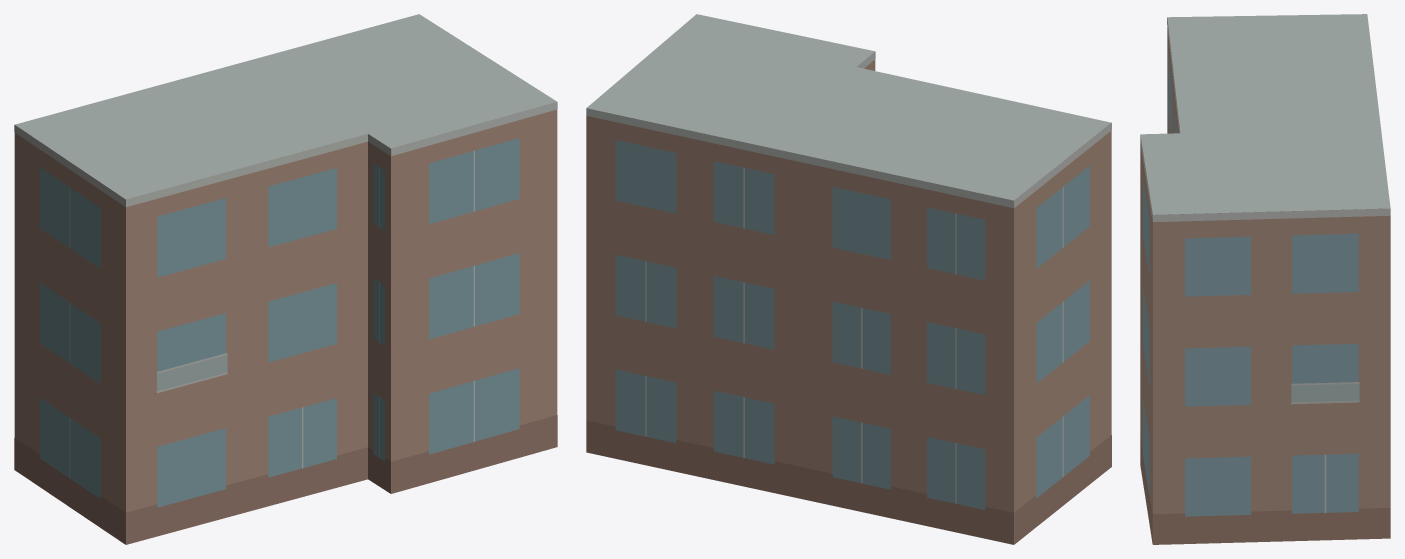
File: survey-upis-32743157.glb
The picture shows the model from 3 angles, left to right: view 1: azimuth 30°, elevation 25°; view 2: azimuth 150°, elevation 25°; view 3: azimuth 270°, elevation 25°; orthographic projection. The views are drawn at different scales.
Parts seen in each view (by area): view 1: survey-upis-32743157.tmp; view 2: survey-upis-32743157.tmp; view 3: survey-upis-32743157.tmp.
Part boxes in pixels (<box>): survey-upis-32743157.tmp: <box>14,14,557,544</box>; survey-upis-32743157.tmp: <box>586,14,1111,544</box>; survey-upis-32743157.tmp: <box>1140,14,1390,544</box>.
Bounding box in the file's own units: 14.37 × 11 × 7.57.
